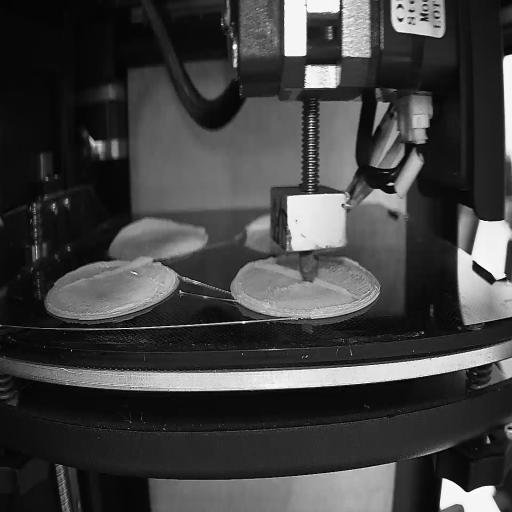over_extrusion: (62, 250, 153, 290), (112, 213, 206, 242), (254, 257, 301, 282), (314, 275, 356, 302), (243, 210, 272, 235)
